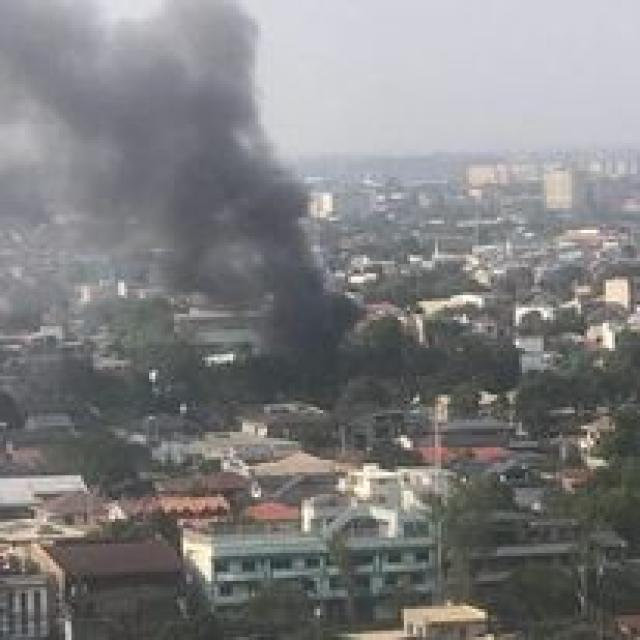Smoke: (5, 0, 368, 364)
